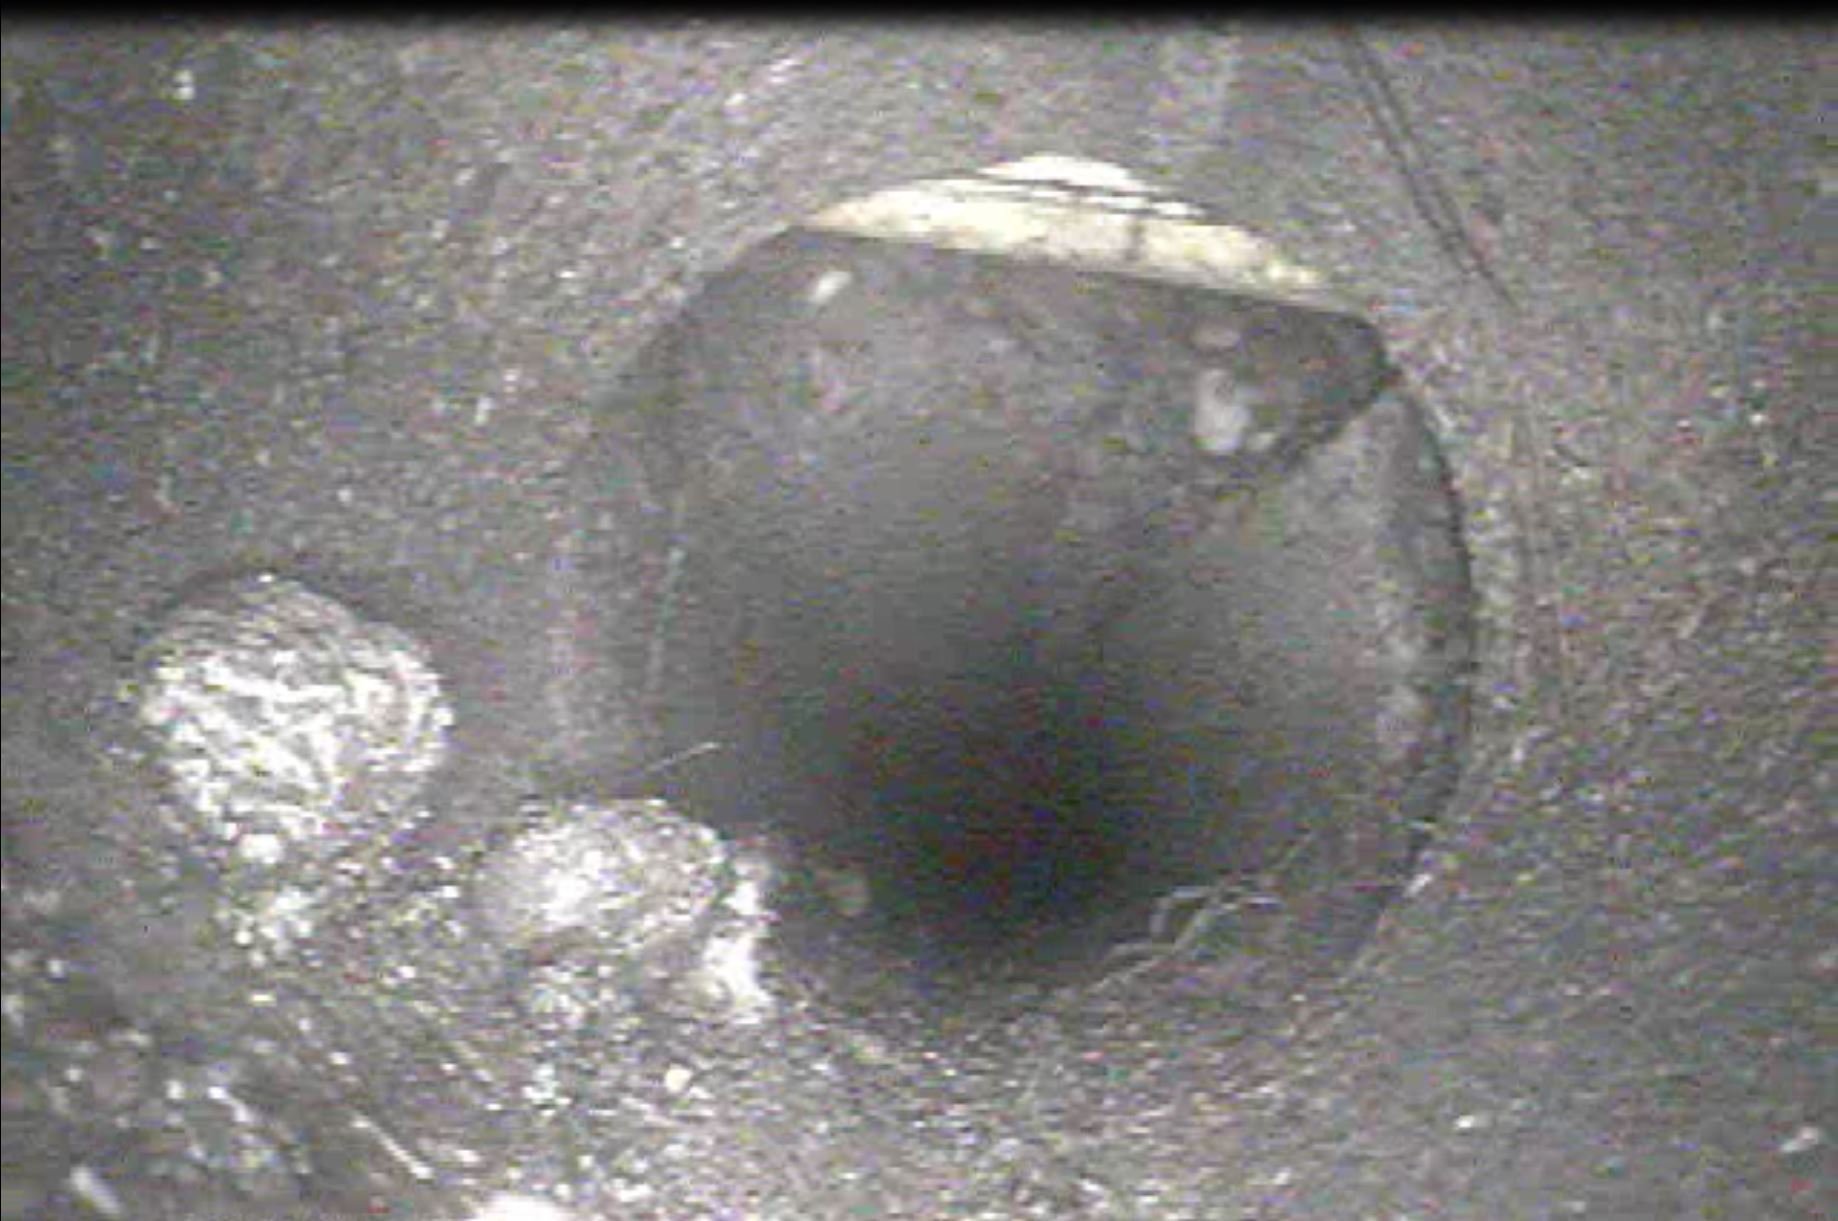cb: (759, 123, 1427, 356)
